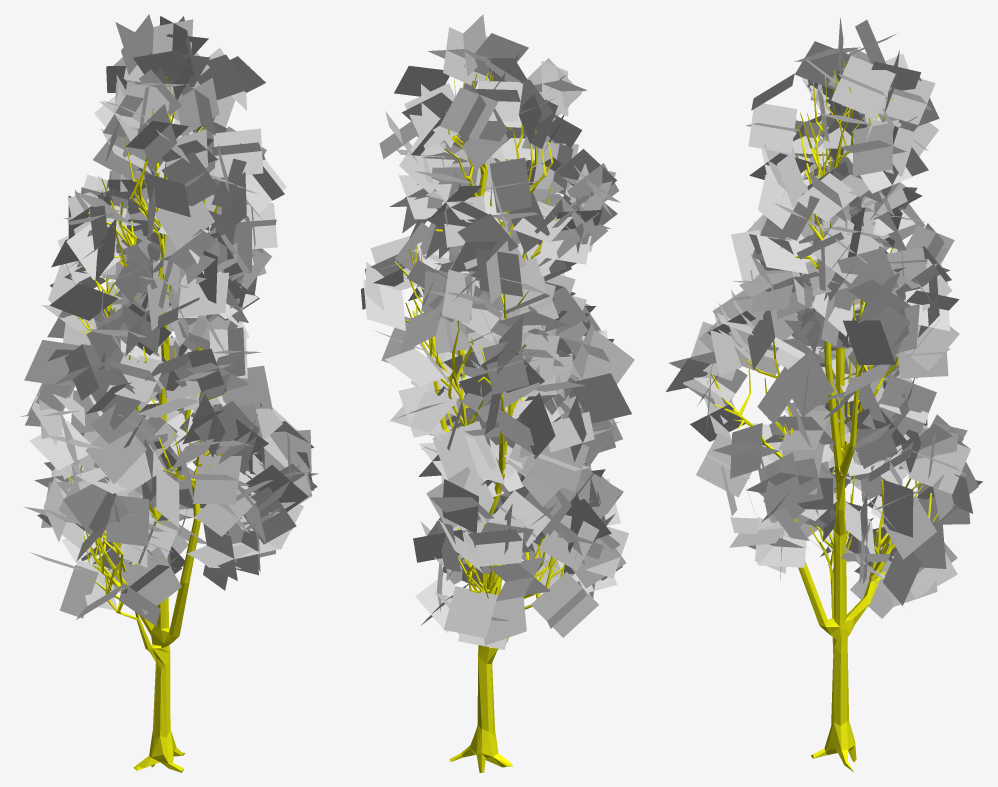
Rendered from tree_poplar.glb.
The picture shows the model from 3 angles, left to right: view 1: azimuth 30°, elevation 25°; view 2: azimuth 150°, elevation 25°; view 3: azimuth 270°, elevation 25°; orthographic projection.
Visible parts, largest first — view 1: Poplar_LOD0, SM_Poplar_LOD0; view 2: Poplar_LOD0, SM_Poplar_LOD0; view 3: Poplar_LOD0, SM_Poplar_LOD0.
Part boxes in pixels (bbox=[...]): Poplar_LOD0: bbox=[20, 14, 318, 625]; SM_Poplar_LOD0: bbox=[70, 77, 225, 772]; Poplar_LOD0: bbox=[361, 14, 634, 649]; SM_Poplar_LOD0: bbox=[395, 69, 564, 772]; Poplar_LOD0: bbox=[666, 17, 982, 618]; SM_Poplar_LOD0: bbox=[711, 59, 938, 772].
Bounding box in the file's own units: 5.88 × 16.33 × 6.39.
